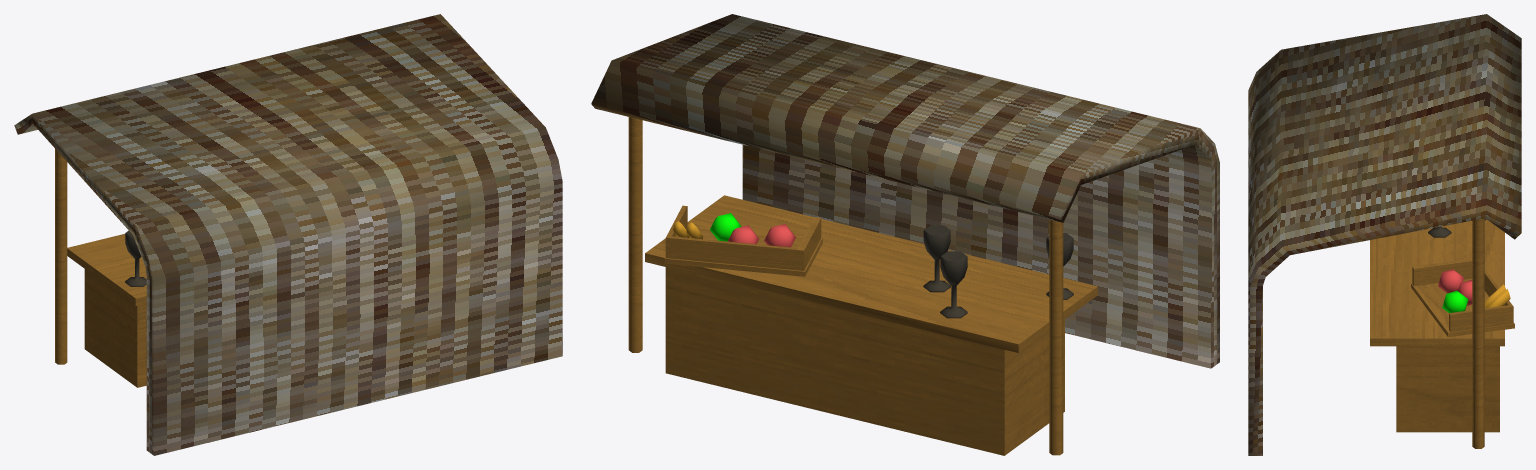
The model's file is stall.glb.
3 views of the same model, side by side, from view 1: azimuth 30°, elevation 25°; view 2: azimuth 150°, elevation 25°; view 3: azimuth 270°, elevation 25° (orthographic). The views are drawn at different scales.
Visible parts, largest first — view 1: Cover, WoodTable, WoodPole1, Glass1; view 2: Cover, WoodTable, WoodTray, WoodPole1, WoodPole2, Fruits, Glass2, Glass3; view 3: Cover, WoodTable, WoodTray, WoodPole2, Fruits.
Boxes of the visible parts, box(x1,y1,x2,y2) form: Cover: box(14, 14, 562, 455); WoodTable: box(67, 234, 146, 387); WoodPole1: box(55, 149, 67, 364); Glass1: box(125, 230, 146, 286); Cover: box(591, 14, 1219, 368); WoodTable: box(645, 195, 1097, 455); WoodTray: box(664, 205, 822, 276); WoodPole1: box(1049, 219, 1063, 455); WoodPole2: box(628, 117, 642, 352); Fruits: box(673, 213, 795, 247); Glass2: box(940, 251, 967, 318); Glass3: box(923, 225, 950, 292); Cover: box(1248, 14, 1521, 455); WoodTable: box(1370, 219, 1504, 432); WoodTray: box(1411, 258, 1514, 337); WoodPole2: box(1472, 218, 1484, 448); Fruits: box(1438, 269, 1510, 312).
Bounding box in the file's own units: 8.92 × 5.32 × 5.29.
Materials: 4 (4 with a texture image).
